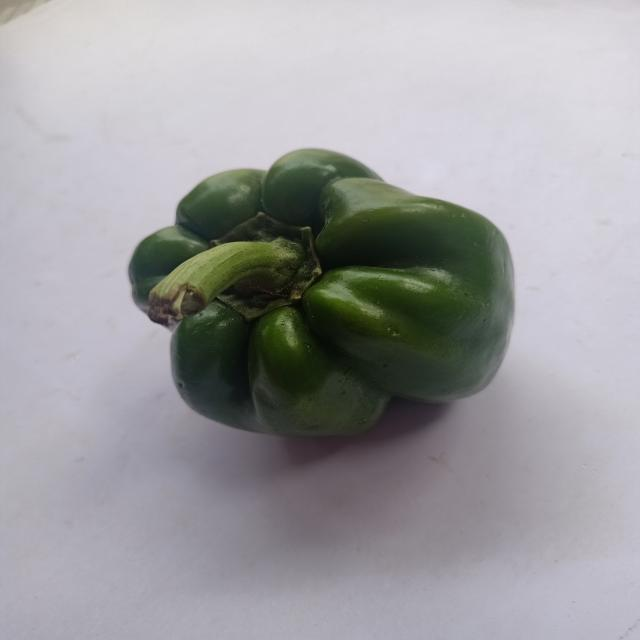Capsicum: (118, 137, 528, 470)
